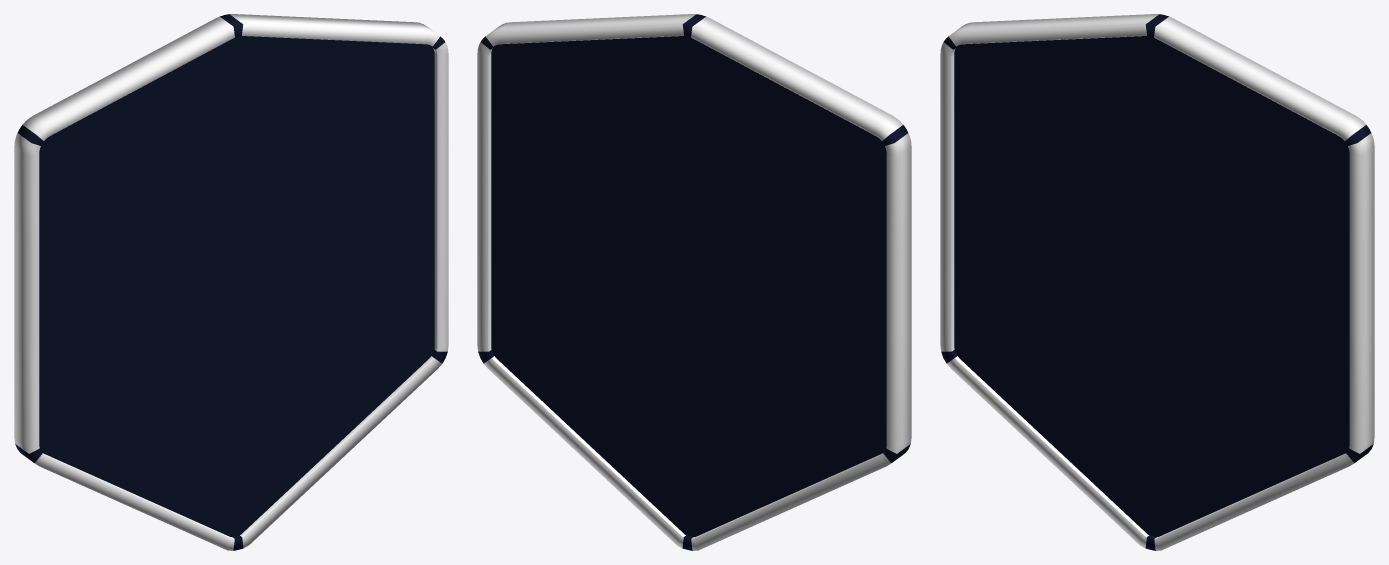
The model's file is shield (2).glb.
3 views of the same model, side by side, from view 1: azimuth 30°, elevation 25°; view 2: azimuth 150°, elevation 25°; view 3: azimuth 330°, elevation 25° (orthographic).
Visible parts, largest first — view 1: Object007, shit009; view 2: Object007, shit009; view 3: Object007, shit009.
Boxes of the visible parts, x1,y1,x2,y2 form: Object007: [15, 14, 447, 550]; shit009: [14, 14, 448, 550]; Object007: [478, 14, 910, 550]; shit009: [477, 14, 911, 550]; Object007: [941, 14, 1373, 550]; shit009: [940, 14, 1374, 550].
Size of the model in its own units: 2.1 by 2.5 by 0.1202.
1 material, 1 textured.
